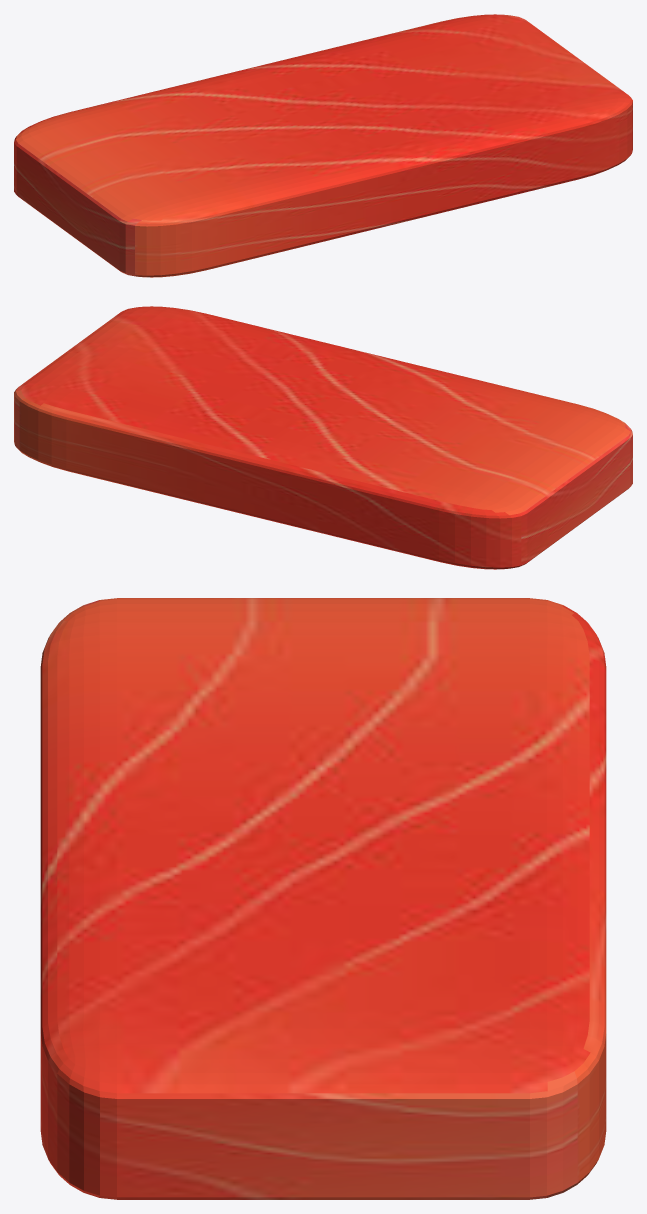
The model's file is neta.fbx.
3 renders of one model, top to bottom at view 1: azimuth 30°, elevation 25°; view 2: azimuth 150°, elevation 25°; view 3: azimuth 270°, elevation 25°, orthographic. The views are drawn at different scales.
Visible parts, largest first — view 1: Cube; view 2: Cube; view 3: Cube.
Part boxes in pixels (box(x1,y1,x2,y2)): Cube: box(14, 14, 632, 277); Cube: box(14, 306, 632, 569); Cube: box(40, 598, 606, 1199).
Size of the model in its own units: 9.51 by 1.2 by 4.56.
Materials: 1 (1 with a texture image).
